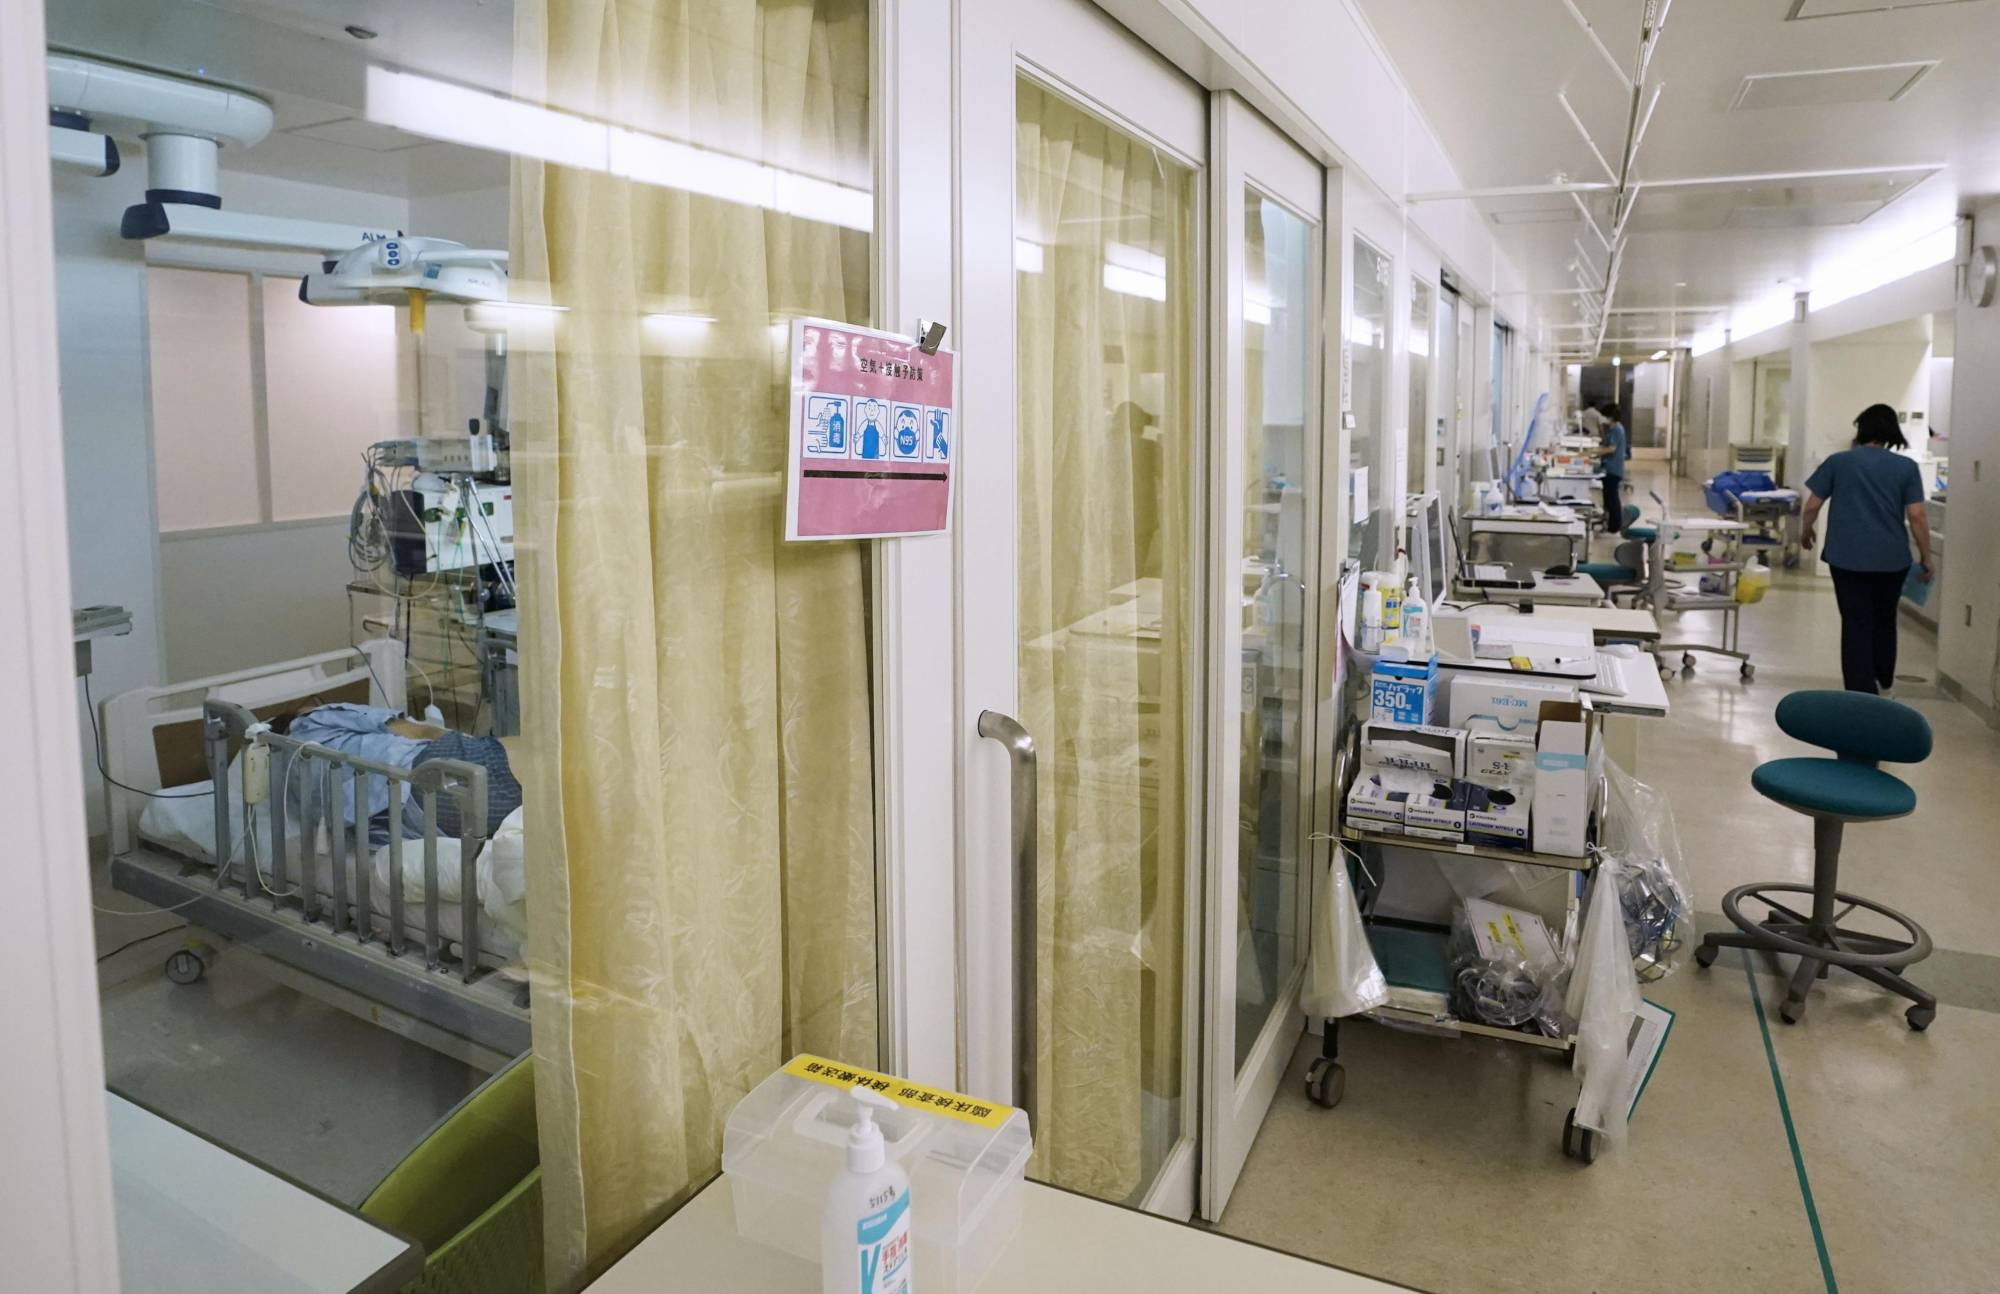bedrail: (202, 704, 488, 980)
chair: (1696, 688, 1935, 1037)
computer: (1446, 506, 1538, 595), (1405, 489, 1456, 644)
curtain: (481, 43, 782, 1230), (1023, 107, 1180, 1137)
dispenser: (822, 1082, 913, 1294)
door_handle: (975, 706, 1042, 1183)
hospital_bed: (99, 637, 535, 1078), (1702, 471, 1801, 564)
keyboard: (1578, 642, 1630, 703)
mouse: (1590, 629, 1649, 658), (1543, 555, 1581, 578)
patient: (265, 698, 520, 849)
person: (1590, 403, 1633, 533)
staff: (1803, 402, 1939, 697)
utility_cart: (1307, 679, 1609, 1122), (1638, 512, 1756, 686)
